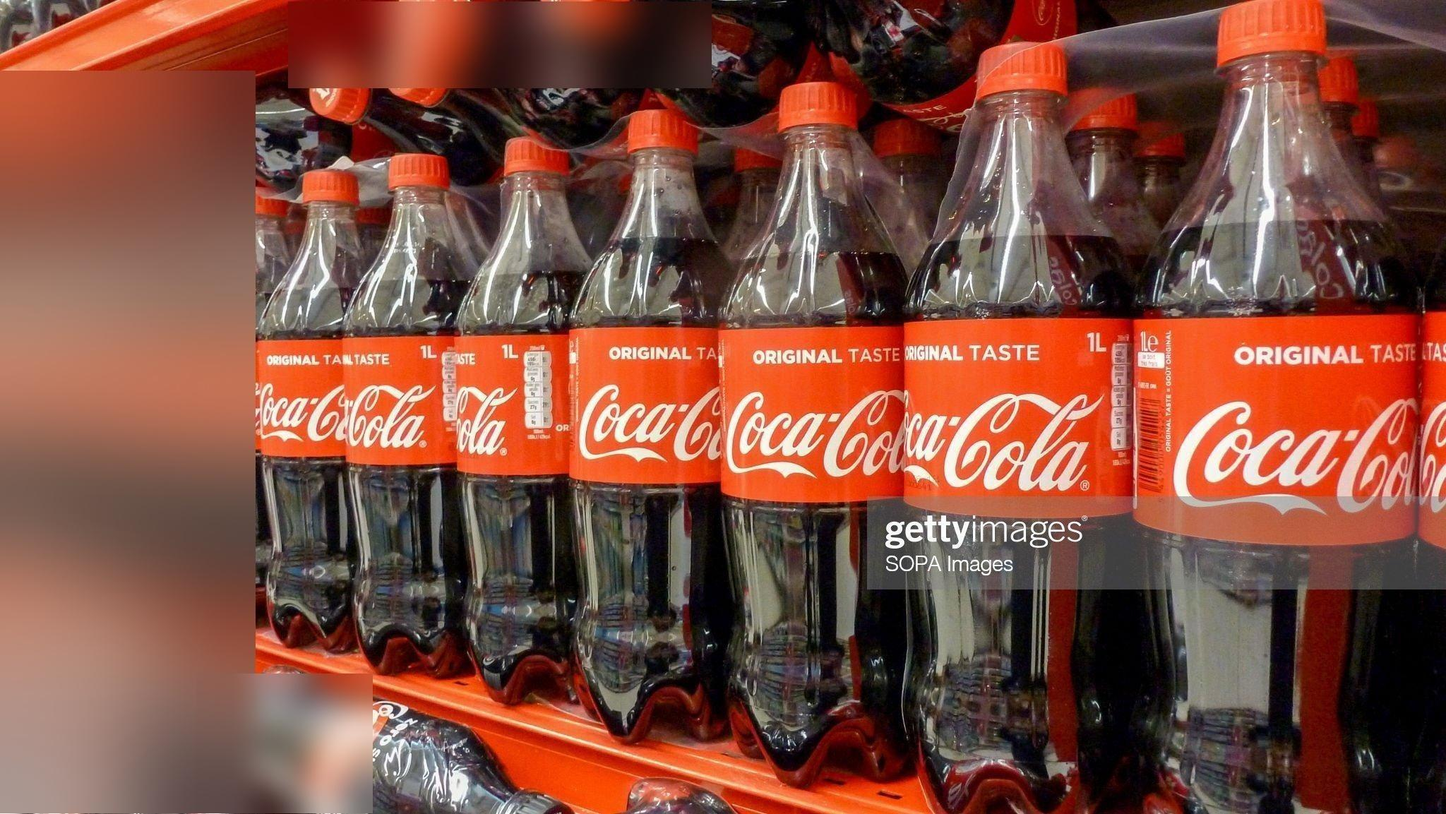bottle-plastic: (1129, 0, 1420, 814), (899, 32, 1140, 814), (717, 71, 916, 795), (564, 98, 735, 750), (448, 122, 598, 712), (344, 150, 472, 686), (251, 162, 372, 661)
